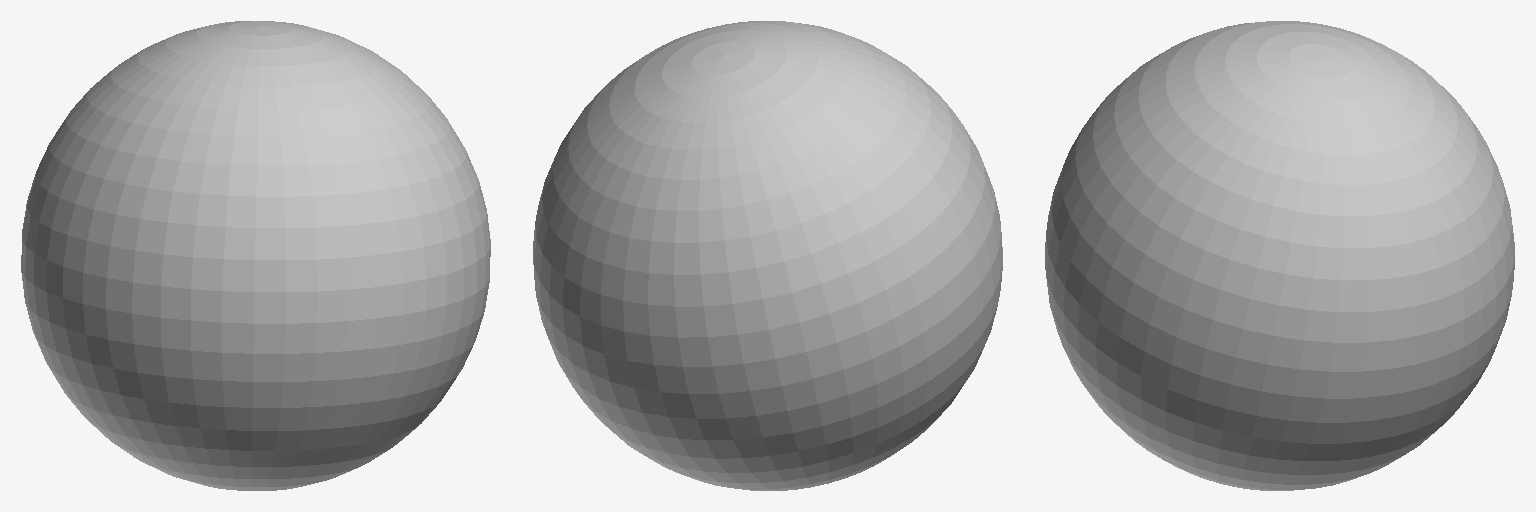
The model's file is ball1.obj.
3 views of the same model, side by side, from view 1: azimuth 30°, elevation 25°; view 2: azimuth 150°, elevation 25°; view 3: azimuth 270°, elevation 25° (orthographic).
Parts seen in each view (by area): view 1: 球体.1; view 2: 球体.1; view 3: 球体.1.
Part boxes in pixels (x1,y1,x2,y2): 球体.1: (21,21,490,490); 球体.1: (533,21,1002,490); 球体.1: (1045,21,1514,490).
Size of the model in its own units: 200 by 200 by 200.